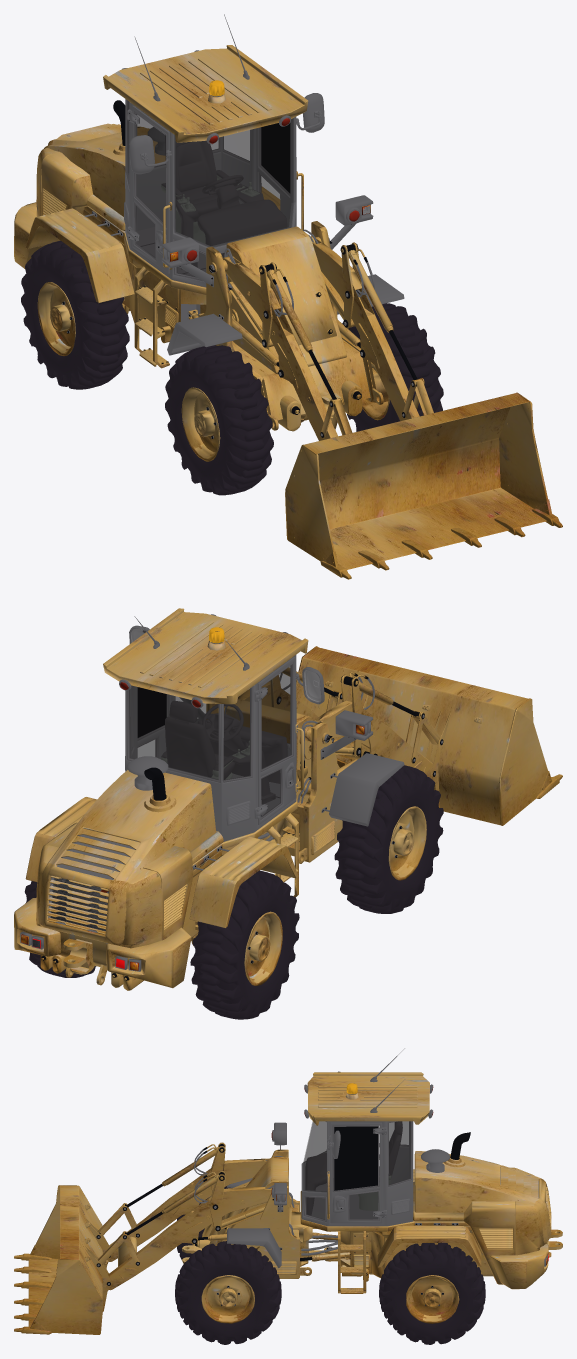
The model's file is Wheel-loader-comp1.glb.
3 views of the same model, one above another, from view 1: azimuth 30°, elevation 25°; view 2: azimuth 150°, elevation 25°; view 3: azimuth 270°, elevation 25° (orthographic). The views are drawn at different scales.
Parts seen in each view (by area): view 1: 10-Wheel_Loader.001_10-yellow_body_0, 10-Wheel_Loader_10-tire_0, 10-Wheel_Loader.010_10-glass_0; view 2: 10-Wheel_Loader.001_10-yellow_body_0, 10-Wheel_Loader_10-tire_0, 10-Wheel_Loader.010_10-glass_0, 10-Wheel_Loader.015_10-radiator_0, 10-Wheel_Loader.013_10-mirror_0; view 3: 10-Wheel_Loader.001_10-yellow_body_0, 10-Wheel_Loader_10-tire_0, 10-Wheel_Loader.010_10-glass_0.
Boxes of the visible parts, x1,y1,x2,y2 form: 10-Wheel_Loader.001_10-yellow_body_0: [14, 45, 562, 579]; 10-Wheel_Loader_10-tire_0: [21, 14, 443, 495]; 10-Wheel_Loader.010_10-glass_0: [127, 101, 293, 276]; 10-Wheel_Loader.001_10-yellow_body_0: [14, 608, 562, 990]; 10-Wheel_Loader_10-tire_0: [20, 614, 443, 1019]; 10-Wheel_Loader.010_10-glass_0: [129, 665, 291, 816]; 10-Wheel_Loader.015_10-radiator_0: [32, 878, 108, 947]; 10-Wheel_Loader.013_10-mirror_0: [131, 629, 320, 701]; 10-Wheel_Loader.001_10-yellow_body_0: [14, 1072, 562, 1334]; 10-Wheel_Loader_10-tire_0: [96, 1048, 548, 1344]; 10-Wheel_Loader.010_10-glass_0: [303, 1121, 410, 1219].
Size of the model in its own units: 2.27 by 3.48 by 6.97.
Materials: 7 (7 with a texture image).
